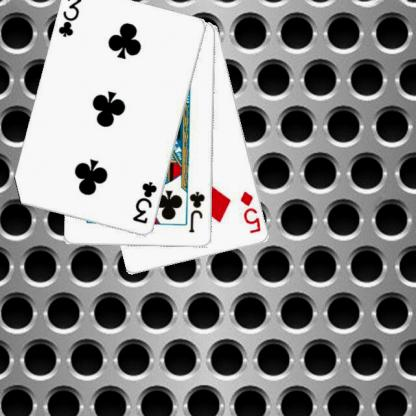3C: (130, 179, 158, 225), (56, 0, 83, 39)
5D: (238, 188, 262, 235)
JC: (186, 189, 206, 235)
